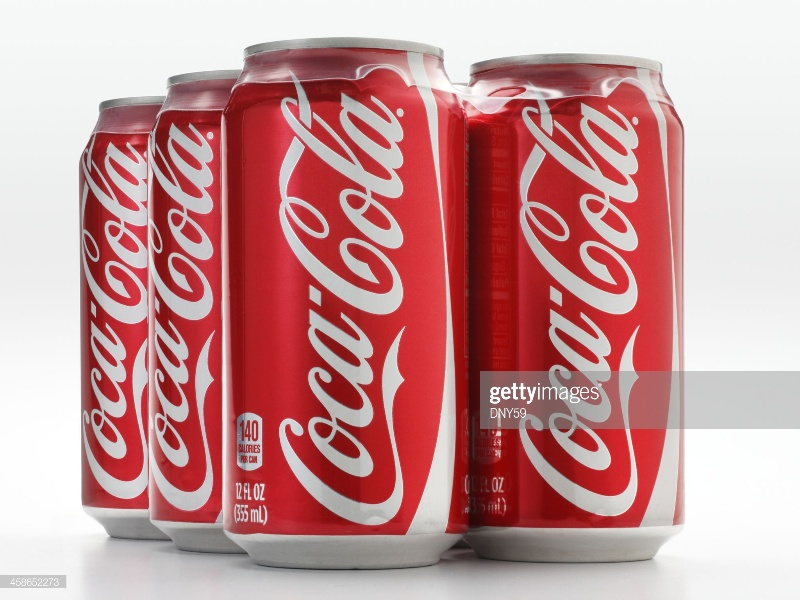coke-can: (221, 34, 476, 567), (471, 48, 696, 556), (148, 62, 231, 555), (69, 94, 156, 545)
